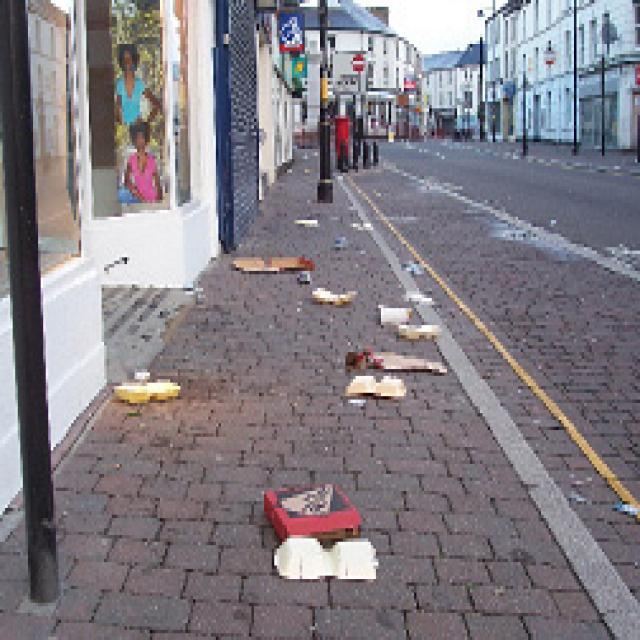trash: (250, 463, 386, 596), (340, 336, 455, 408), (108, 354, 195, 415), (227, 239, 323, 287)
